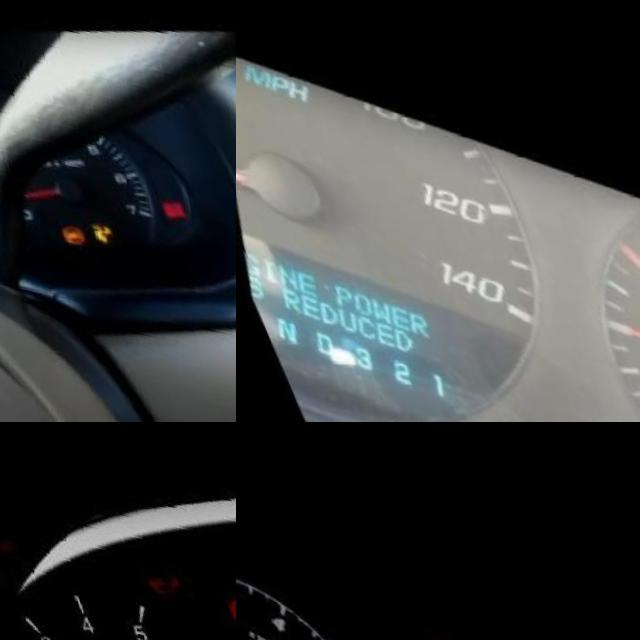Engine cooling system: (230, 547, 236, 578)
